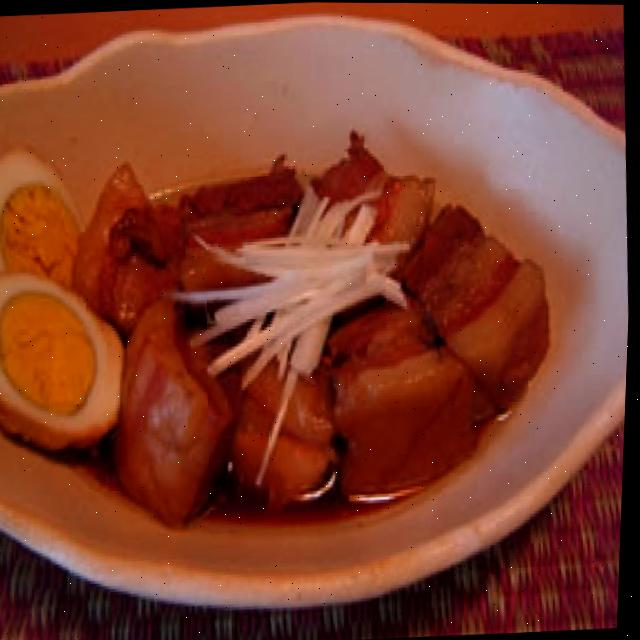猪肉菜式: (0, 0, 640, 633)
